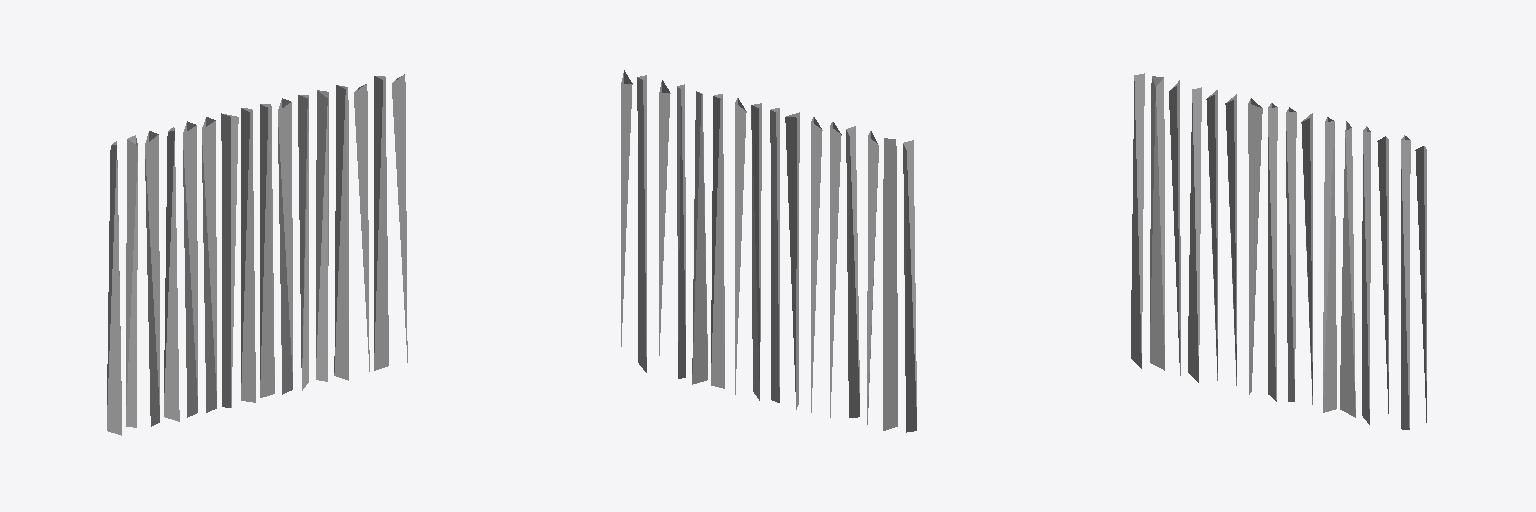
Rendered from InteractiveDoor_LOW.obj.
The picture shows the model from 3 angles: view 1: azimuth 30°, elevation 25°; view 2: azimuth 150°, elevation 25°; view 3: azimuth 330°, elevation 25°; orthographic projection.
Visible parts, largest first — view 1: Closed_door; view 2: Closed_door; view 3: Closed_door.
Part boxes in pixels (x1,y1,x2,y2): Closed_door: (107,74,407,435); Closed_door: (621,70,916,432); Closed_door: (1131,73,1426,429).
Bounding box in the file's own units: 3.41 × 3.23 × 0.1336.